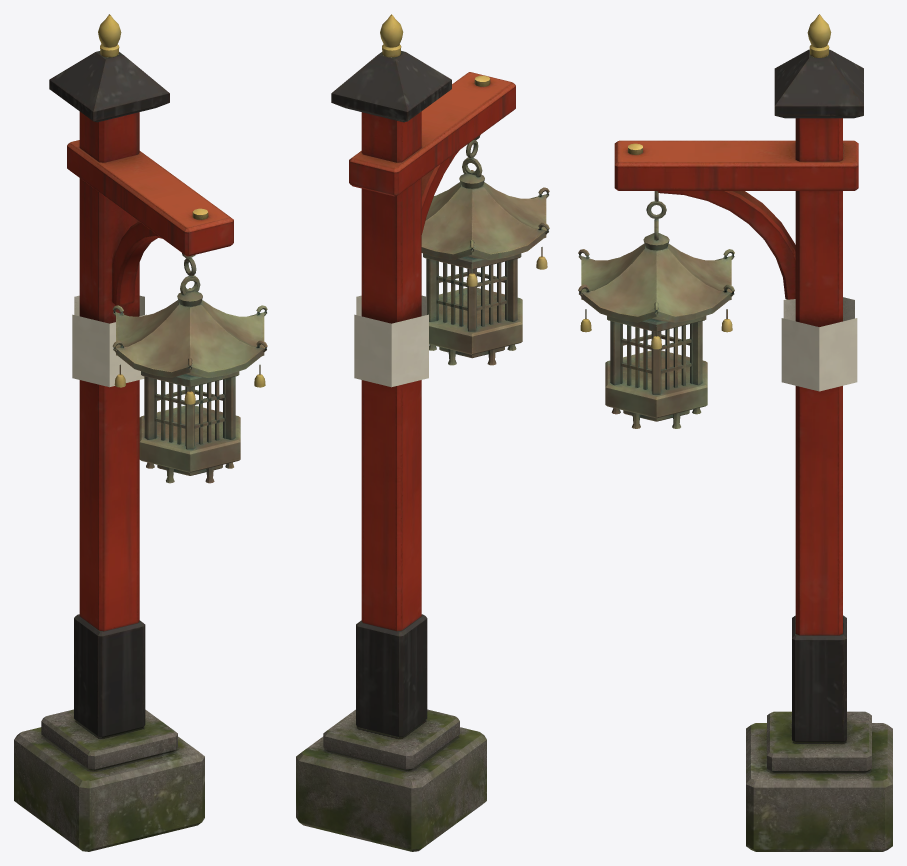
Rendered from shrine-lantern-hanging.glb.
The picture shows the model from 3 angles, left to right: view 1: azimuth 30°, elevation 25°; view 2: azimuth 150°, elevation 25°; view 3: azimuth 270°, elevation 25°; orthographic projection.
Visible parts, largest first — view 1: lod0; view 2: lod0; view 3: lod0.
Part boxes in pixels (x1,y1,x2,y2): lod0: (14,14,267,851); lod0: (296,14,549,851); lod0: (578,14,892,851).
Size of what is drawn, in the model's own units: 0.6865 by 3.4 by 1.2.
Materials: 1 (1 with a texture image).
